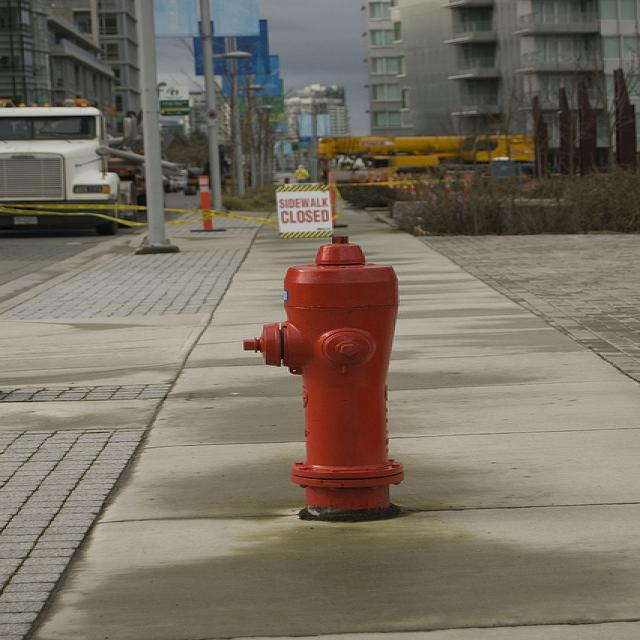fire_hydrant: (240, 233, 402, 517)
